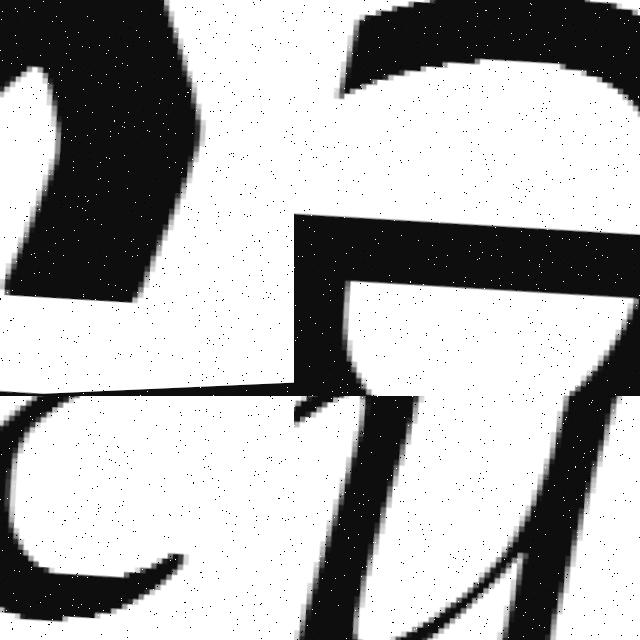3: (0, 396, 260, 640)
E: (294, 214, 640, 396)
H: (387, 396, 624, 640), (294, 396, 420, 640)
Y: (0, 0, 294, 349)
